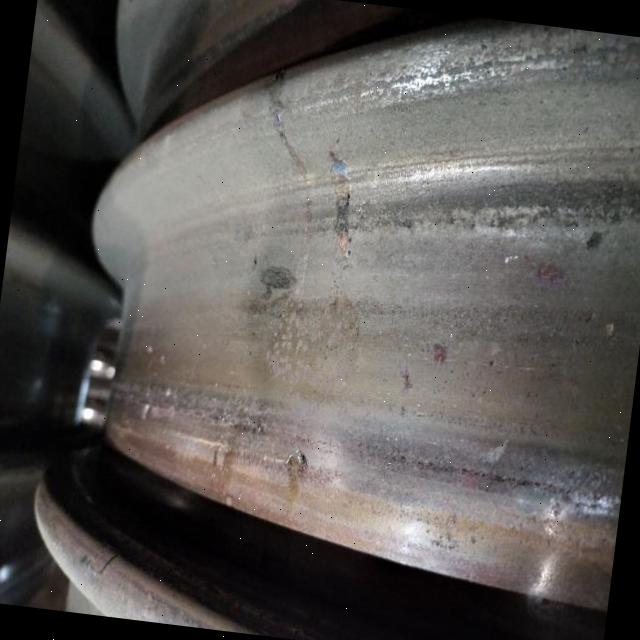Rollerpile: (317, 150, 360, 261), (277, 449, 312, 529), (258, 265, 300, 305)
